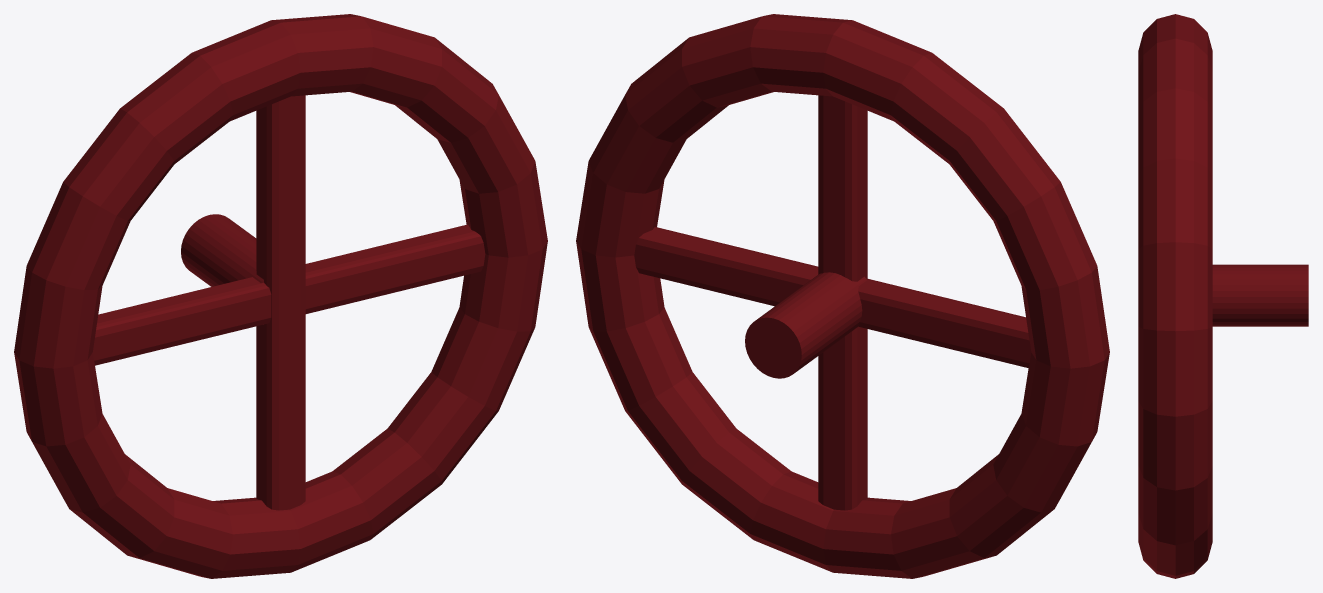
The model's file is Valve asset.fbx.
3 views of the same model, side by side, from view 1: azimuth 30°, elevation 25°; view 2: azimuth 150°, elevation 25°; view 3: azimuth 270°, elevation 25° (orthographic). The views are drawn at different scales.
Visible parts, largest first — view 1: Valve; view 2: Valve; view 3: Valve.
Boxes of the visible parts, x1,y1,x2,y2 form: Valve: (14, 14, 547, 578); Valve: (576, 14, 1109, 578); Valve: (1138, 14, 1308, 578).
Bounding box in the file's own units: 92 × 92 × 27.51.
